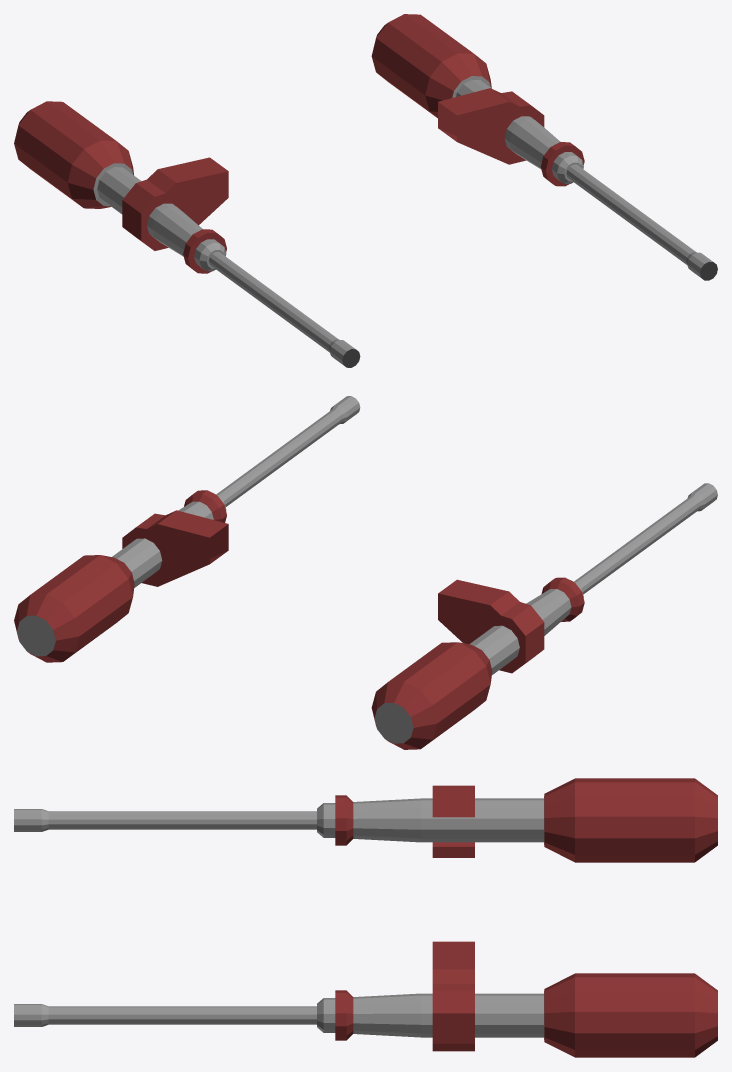
Rendered from PlayerBaseWeapons.fbx.
The picture shows the model from 3 angles, top to bottom: view 1: azimuth 30°, elevation 25°; view 2: azimuth 150°, elevation 25°; view 3: azimuth 270°, elevation 25°; orthographic projection. The views are drawn at different scales.
Visible parts, largest first — view 1: pasted__polySurface36; view 2: pasted__polySurface36; view 3: pasted__polySurface36.
Part boxes in pixels (x1,y1,x2,y2): pasted__polySurface36: (14, 14, 717, 367); pasted__polySurface36: (14, 396, 717, 749); pasted__polySurface36: (14, 778, 717, 1057).
Bounding box in the file's own units: 199 × 31.22 × 256.
